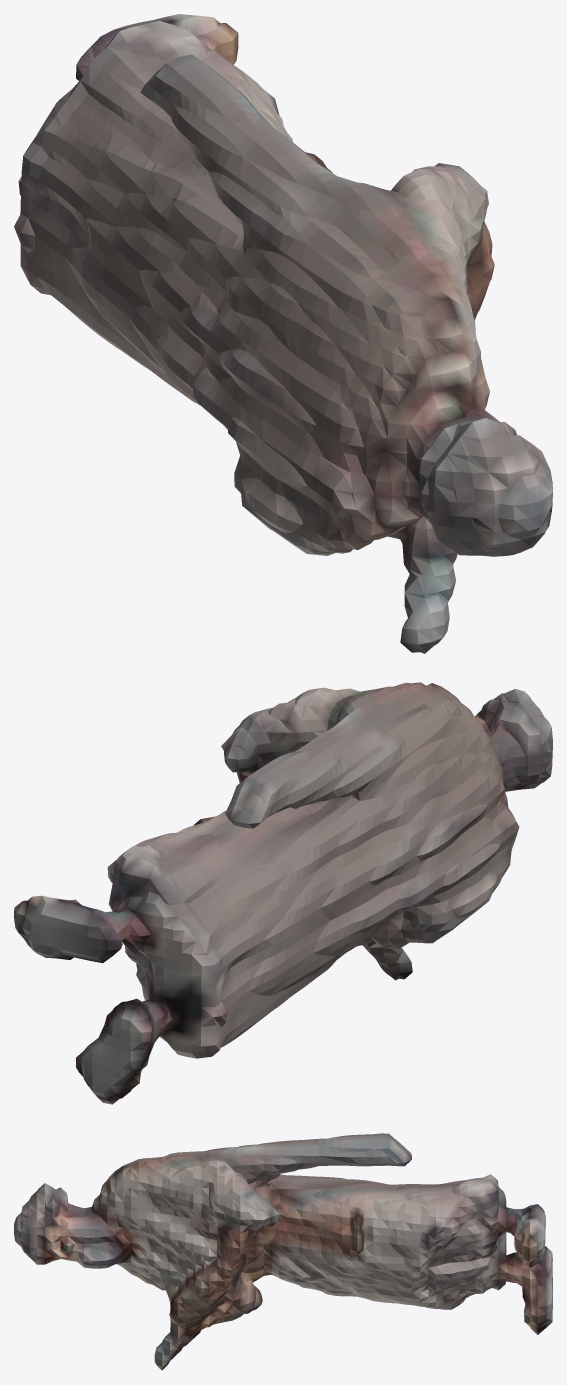
File: ancient_scholar_m_0.glb
The picture shows the model from 3 angles, top to bottom: view 1: azimuth 30°, elevation 25°; view 2: azimuth 150°, elevation 25°; view 3: azimuth 270°, elevation 25°; orthographic projection. The views are drawn at different scales.
Parts seen in each view (by area): view 1: world; view 2: world; view 3: world.
Boxes of the visible parts, bbox=[...] form: world: bbox=[14, 14, 552, 653]; world: bbox=[14, 682, 552, 1104]; world: bbox=[14, 1133, 552, 1370].
Size of the model in its own units: 0.3239 by 0.4419 by 0.9438.
